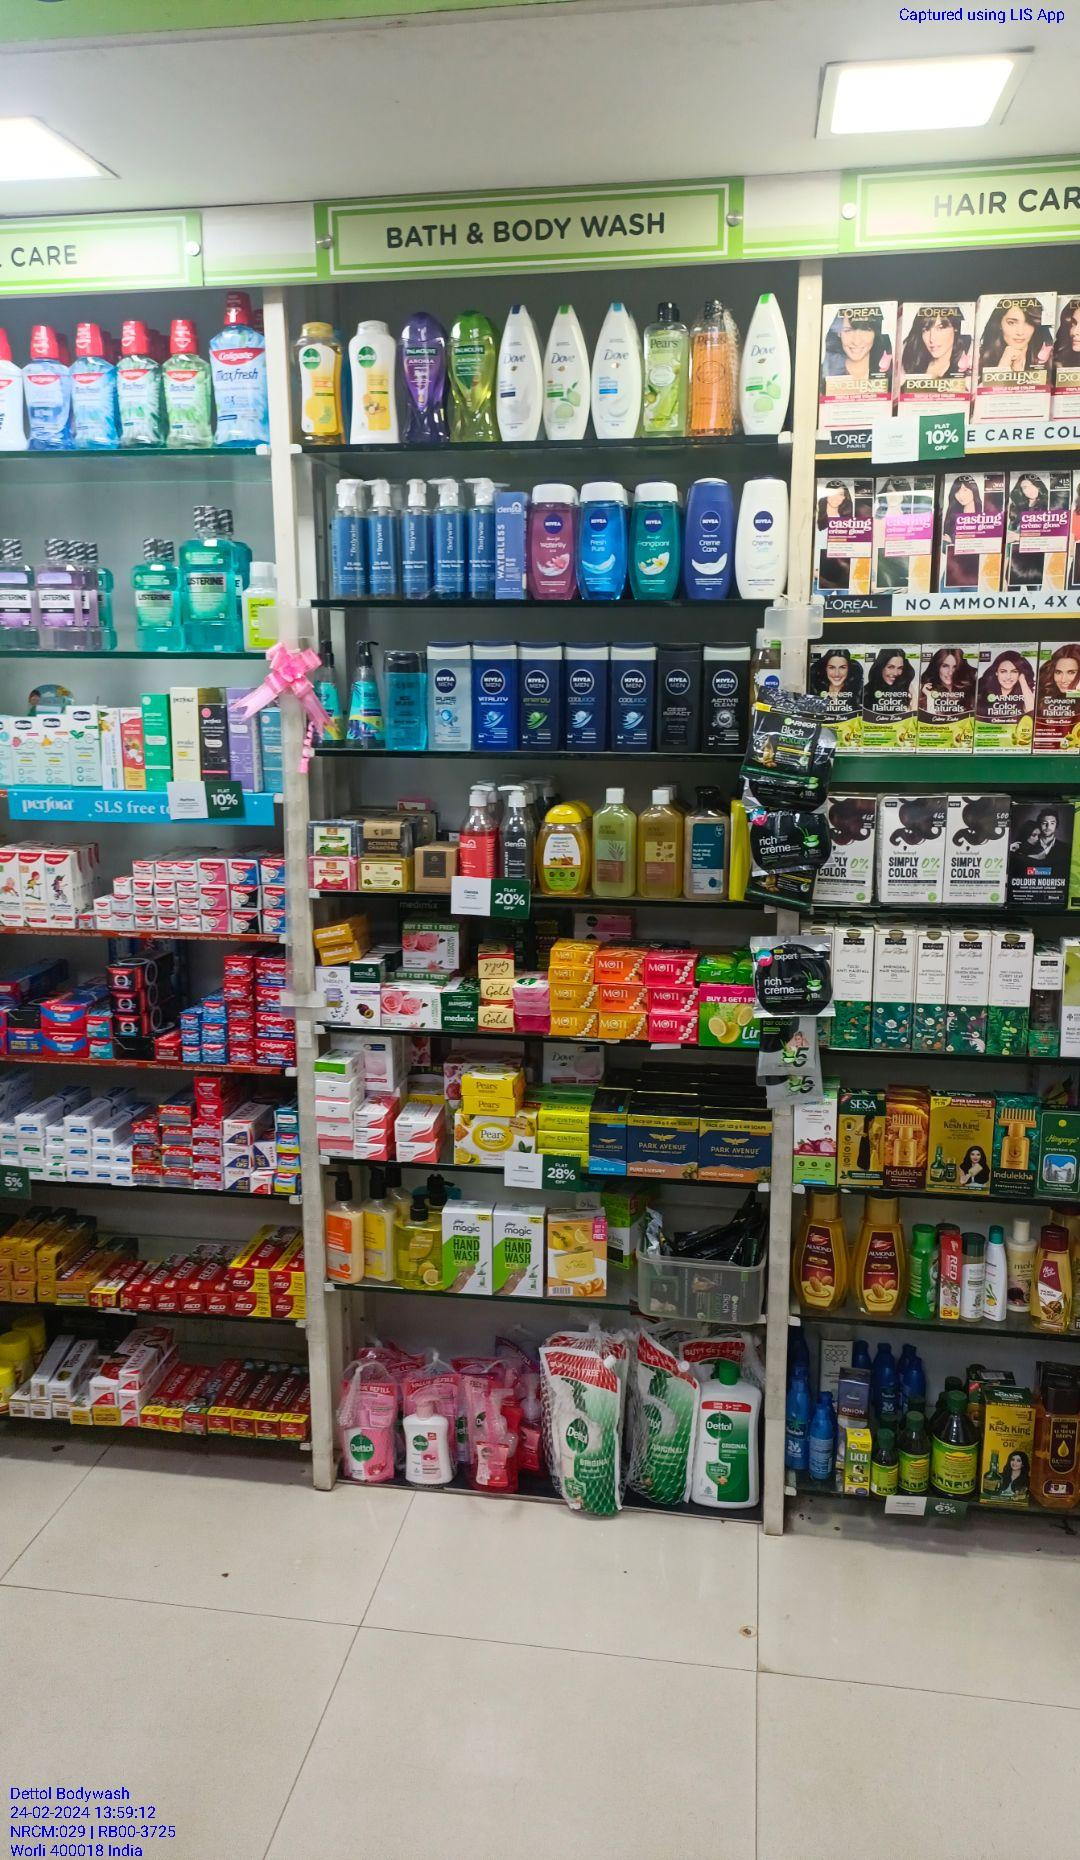Dettol_Bodywash_Refresh: (294, 314, 341, 446)
Dettol_Nourish_Body_Wash_250ML: (347, 319, 396, 445)
Dove_Deep_Moisture_Body_Wash_250ML: (498, 303, 536, 438)
Dove_Gentle_Exfoliating_Body_Wash_250ML: (590, 296, 638, 440)
Dove_Refreshing_Body_Wash_250ML: (738, 292, 792, 436), (543, 303, 589, 443)
Nivea_Creme_Care_Body_Wash_250ML: (687, 479, 732, 598)
Nivea_Creme_Soft_Body_Wash_250ML: (737, 476, 788, 595)
Nivea_Shower_Gel_Frangipani_and_Oil_250ML: (635, 481, 680, 599)
Nivea_Shower_Gel_Waterlily_and_Oil_250ML: (528, 488, 576, 598)
Palmolive_Aroma_Morning_Tonic_Shower_Gel_250ML: (450, 310, 489, 450)
Palmolive_Aroma_Relax_250ML: (400, 317, 446, 442)
Pears_Naturale_Aloe_Vera_Body_Wash_250ML: (642, 301, 689, 438)
